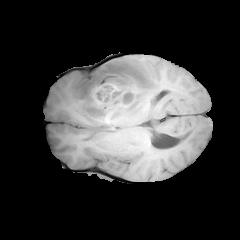glioma: (74, 55, 161, 130)
